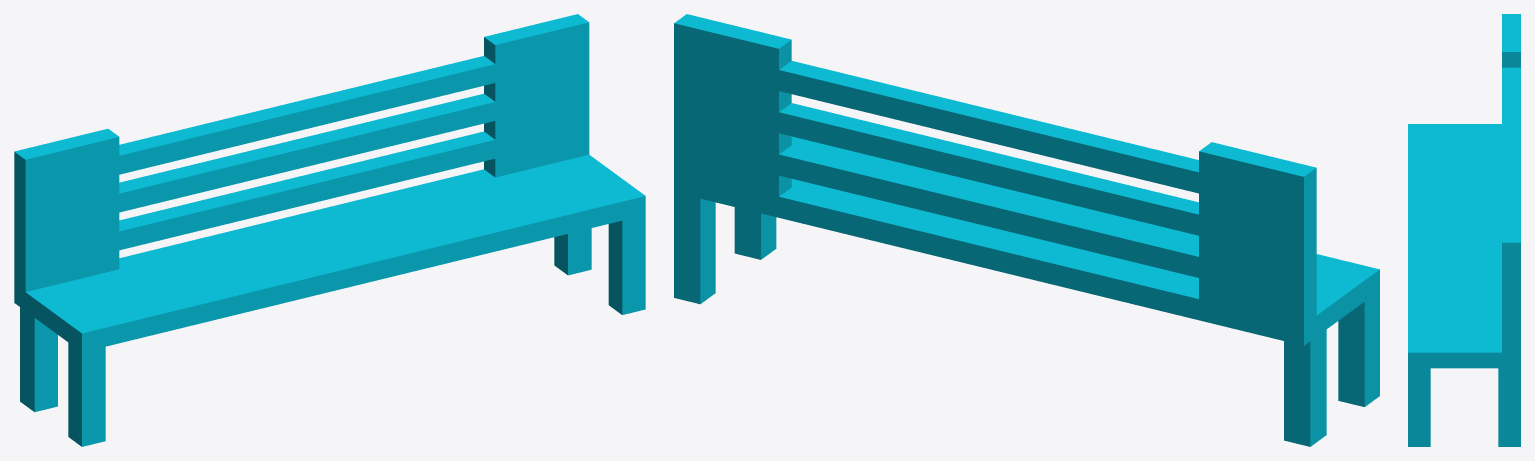
The model's file is bench.glb.
3 views of the same model, side by side, from view 1: azimuth 30°, elevation 25°; view 2: azimuth 150°, elevation 25°; view 3: azimuth 270°, elevation 25° (orthographic). The views are drawn at different scales.
Parts seen in each view (by area): view 1: Bench Seat, Bench Back 3, Bench Back 1, Bench Back 2, Bench Left Support, Bench Right Support, Bench Leg 1, Bench Leg 4, Bench Leg 2, Bench Leg 3; view 2: Bench Seat, Bench Back 3, Bench Back 1, Bench Right Support, Bench Back 2, Bench Left Support, Bench Leg 2, Bench Leg 3, Bench Leg 1, Bench Leg 4; view 3: Bench Seat, Bench Back 1, Bench Right Support, Bench Leg 3, Bench Leg 4, Bench Left Support, Bench Back 3.
Boxes of the visible parts, <box> form: Bench Seat: <box>14,154,645,352</box>; Bench Back 3: <box>14,117,589,273</box>; Bench Back 1: <box>14,41,589,196</box>; Bench Back 2: <box>14,79,588,234</box>; Bench Left Support: <box>14,128,119,291</box>; Bench Right Support: <box>484,14,589,177</box>; Bench Leg 1: <box>68,342,105,446</box>; Bench Leg 4: <box>608,215,645,314</box>; Bench Leg 2: <box>20,307,57,412</box>; Bench Leg 3: <box>554,228,591,275</box>; Bench Seat: <box>674,136,1379,345</box>; Bench Back 3: <box>674,129,1316,303</box>; Bench Back 1: <box>674,44,1316,218</box>; Bench Right Support: <box>674,14,791,196</box>; Bench Back 2: <box>674,86,1316,260</box>; Bench Left Support: <box>1199,142,1316,324</box>; Bench Leg 2: <box>1284,329,1326,446</box>; Bench Leg 3: <box>674,192,715,304</box>; Bench Leg 1: <box>1338,290,1379,406</box>; Bench Leg 4: <box>734,207,776,259</box>; Bench Seat: <box>1408,124,1520,368</box>; Bench Back 1: <box>1502,67,1520,273</box>; Bench Right Support: <box>1502,204,1520,352</box>; Bench Leg 3: <box>1498,368,1520,446</box>; Bench Leg 4: <box>1408,368,1430,446</box>; Bench Left Support: <box>1502,14,1520,67</box>; Bench Back 3: <box>1502,321,1520,336</box>.
Bounding box in the file's own units: 152 × 63.5 × 31.75.
